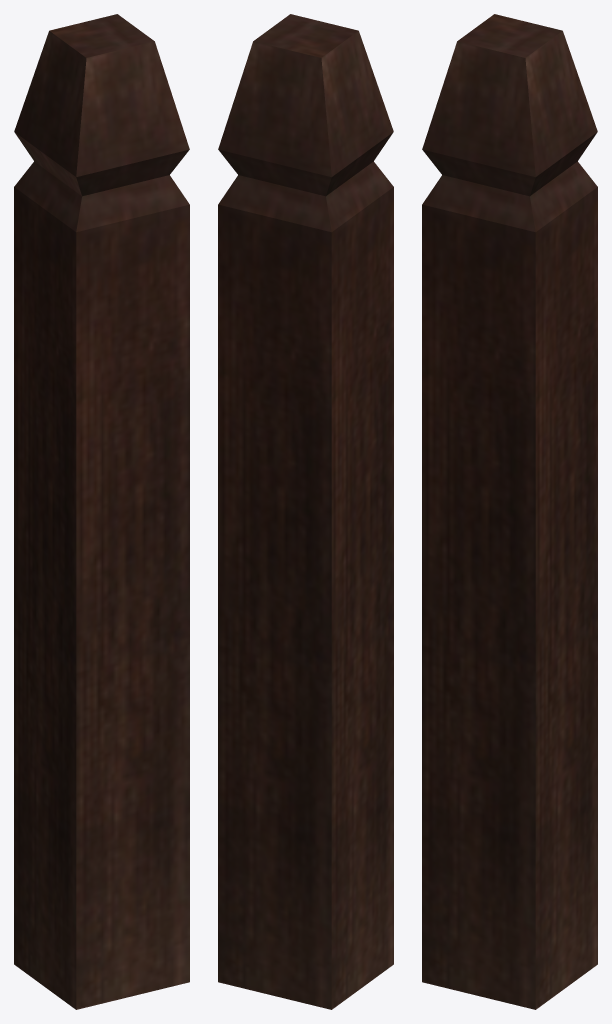
File: banisterbase.fbx
3 views of the same model, side by side, from view 1: azimuth 30°, elevation 25°; view 2: azimuth 150°, elevation 25°; view 3: azimuth 330°, elevation 25° (orthographic).
Parts seen in each view (by area): view 1: banisterbase; view 2: banisterbase; view 3: banisterbase.
Part boxes in pixels (x1=…): banisterbase: x1=14, y1=14, x2=189, y2=1009; banisterbase: x1=218, y1=14, x2=393, y2=1009; banisterbase: x1=422, y1=14, x2=597, y2=1009.
Bounding box in the file's own units: 21.59 × 170 × 20.44.
